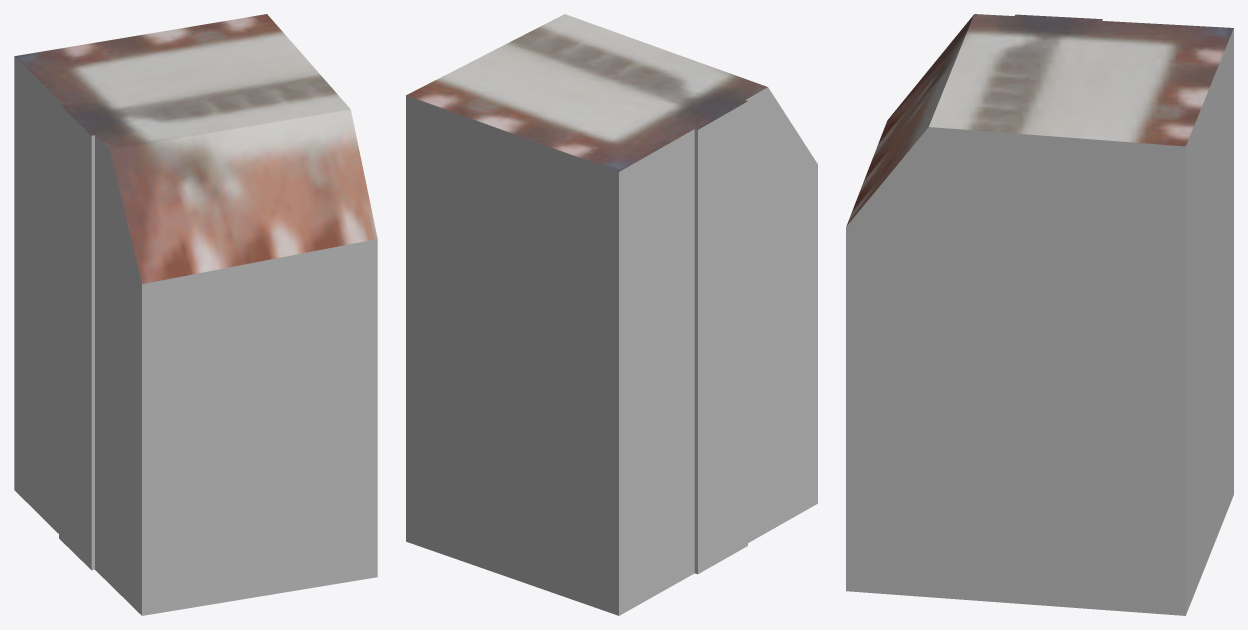
The model's file is DEBW_0010007Tx4o.gltf.
3 renders of one model, left to right at view 1: azimuth 30°, elevation 25°; view 2: azimuth 150°, elevation 25°; view 3: azimuth 270°, elevation 25°, orthographic. The views are drawn at different scales.
Parts seen in each view (by area): view 1: Z_UP; view 2: Z_UP; view 3: Z_UP.
Part boxes in pixels (x1=…): Z_UP: x1=14, y1=14, x2=377, y2=615; Z_UP: x1=406, y1=14, x2=817, y2=615; Z_UP: x1=846, y1=14, x2=1233, y2=615.
Bounding box in the file's own units: 10.96 × 17.35 × 12.97.
Materials: 2 (1 with a texture image).
